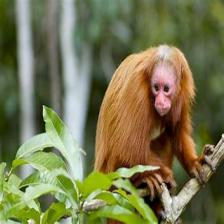monkey: (92, 43, 212, 224)
